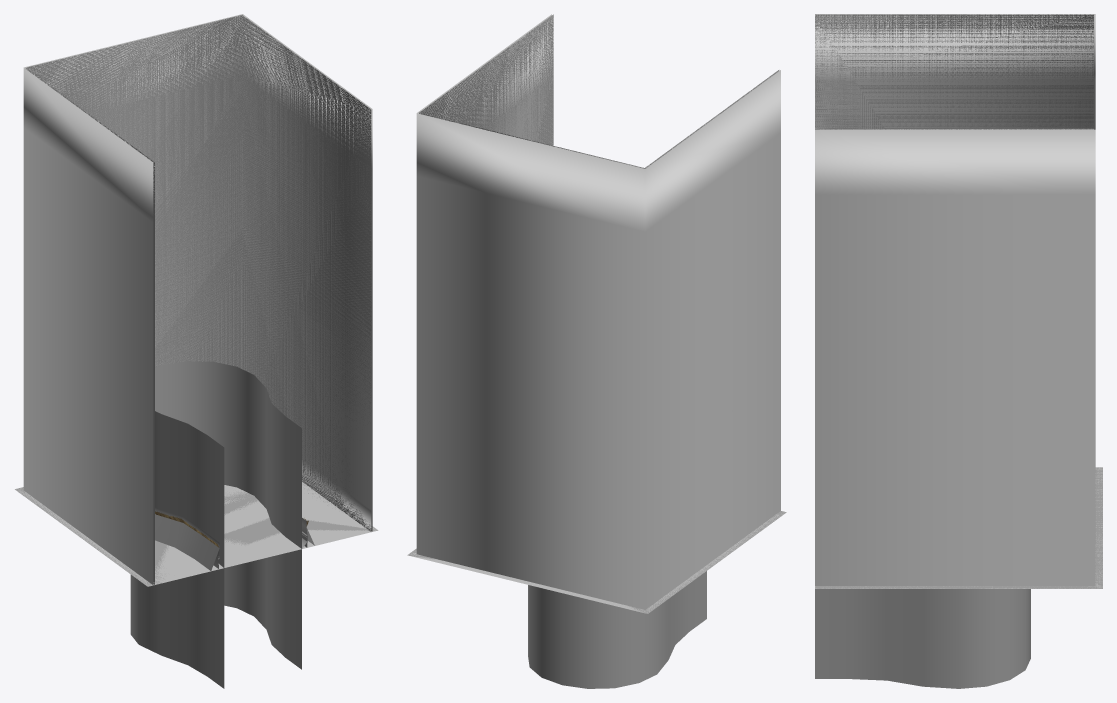
Rendered from roadstop2.fbx.
3 views of the same model, side by side, from view 1: azimuth 30°, elevation 25°; view 2: azimuth 150°, elevation 25°; view 3: azimuth 270°, elevation 25° (orthographic). The views are drawn at different scales.
Parts seen in each view (by area): view 1: mdl_LOD0, col_o, col_w, mdl2_LOD0; view 2: mdl_LOD0, mdl2_LOD0, col_w, col_o; view 3: mdl_LOD0, mdl2_LOD0, col_o, col_w.
Part boxes in pixels (box(x1,y1,x2,y2)): mdl_LOD0: box(15, 76, 377, 586); col_o: box(15, 15, 377, 586); col_w: box(130, 361, 301, 688); mdl2_LOD0: box(23, 14, 372, 547); mdl_LOD0: box(408, 78, 785, 613); mdl2_LOD0: box(416, 14, 780, 231); col_w: box(528, 571, 706, 688); col_o: box(407, 14, 786, 613); mdl_LOD0: box(815, 79, 1102, 588); mdl2_LOD0: box(815, 14, 1095, 194); col_o: box(815, 14, 1102, 588); col_w: box(815, 589, 1030, 688).
Size of what is drawn, in the model's own units: 1600 by 3600 by 1600.
